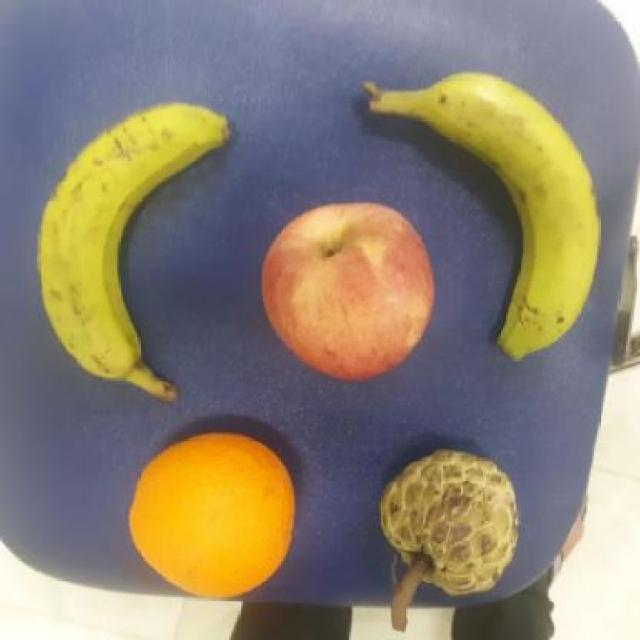apple: (253, 194, 444, 381)
banana: (31, 95, 258, 383), (436, 68, 612, 369)
oren: (128, 430, 304, 604)
sugar apple: (378, 448, 532, 604)
